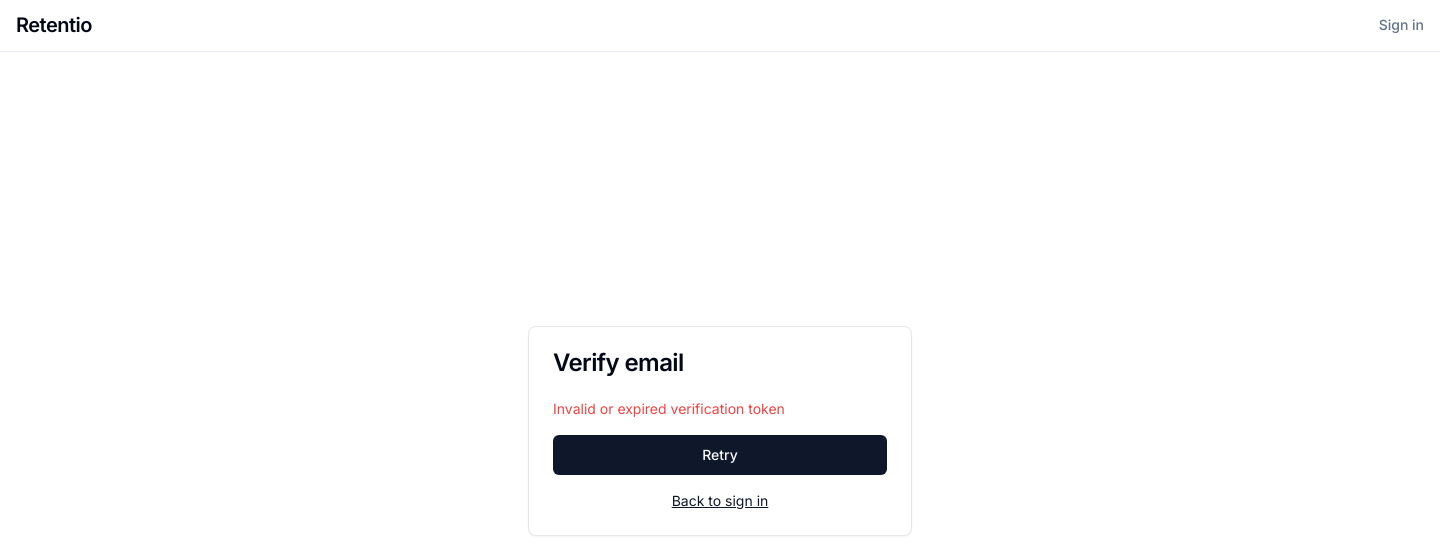
Test case: VerifyEmailPage › allows retry after failure
Expected: the text "Invalid or expired verification token" is shown, [553,400,785,416]
Click the button "Retry": click(720, 454) [553,434,887,474]
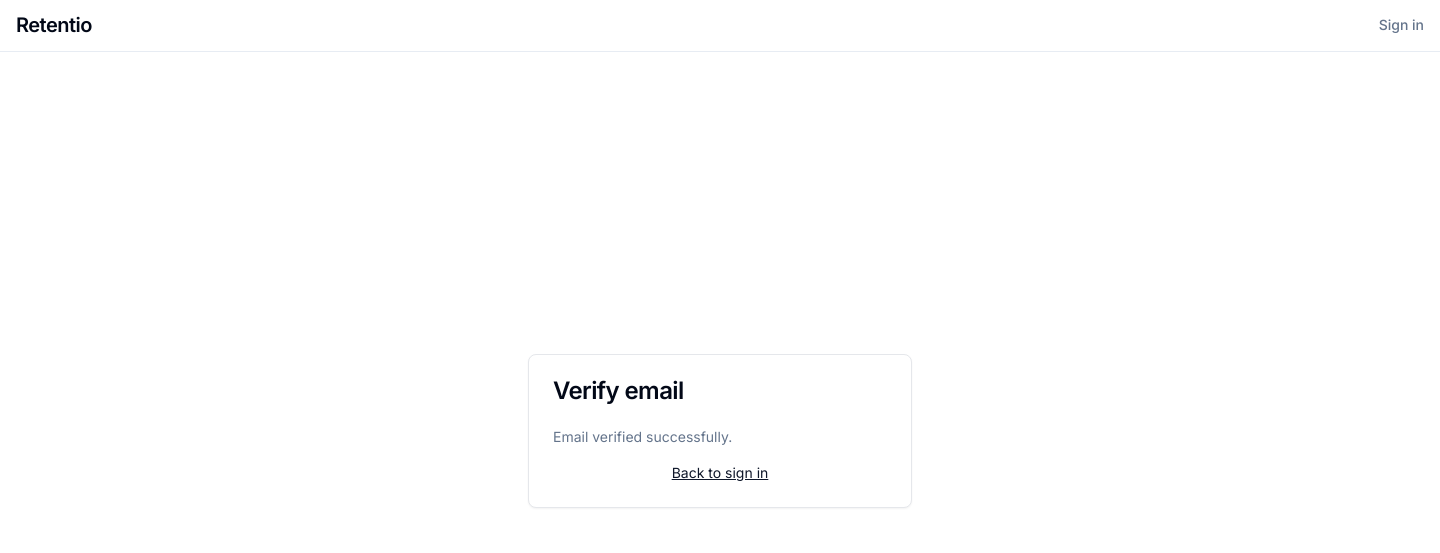
Expected: the text "Email verified successfully." is shown, [553,428,732,444]
